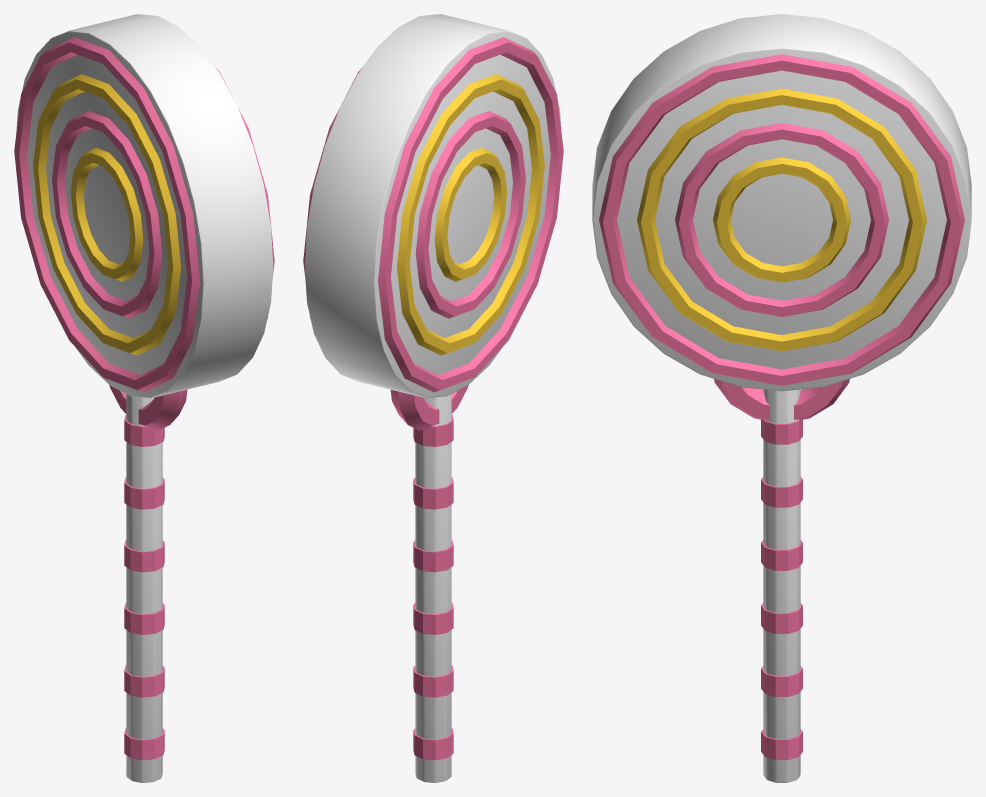
Rendered from LandLollipop.fbx.
3 views of the same model, side by side, from view 1: azimuth 30°, elevation 25°; view 2: azimuth 150°, elevation 25°; view 3: azimuth 270°, elevation 25° (orthographic).
Visible parts, largest first — view 1: LandLollipop; view 2: LandLollipop; view 3: LandLollipop.
Part boxes in pixels (x1=…): LandLollipop: x1=14, y1=14, x2=274, y2=782; LandLollipop: x1=303, y1=14, x2=563, y2=782; LandLollipop: x1=592, y1=14, x2=971, y2=782.
Bounding box in the file's own units: 152 × 1300 × 600.
